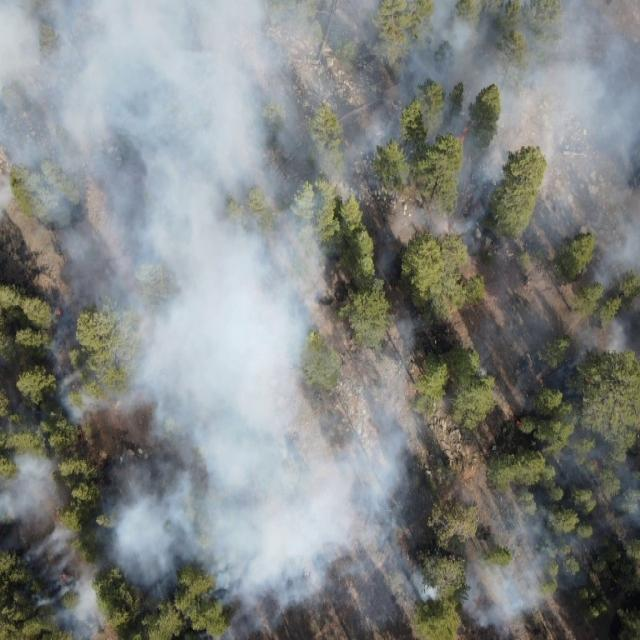fire: (458, 125, 468, 143), (594, 460, 602, 476), (54, 305, 62, 319), (59, 574, 68, 584), (514, 418, 522, 428)
smoke: (52, 232, 436, 640), (1, 0, 640, 232), (440, 480, 567, 636), (0, 380, 51, 610), (568, 420, 640, 581), (572, 236, 640, 378), (455, 308, 571, 386)
